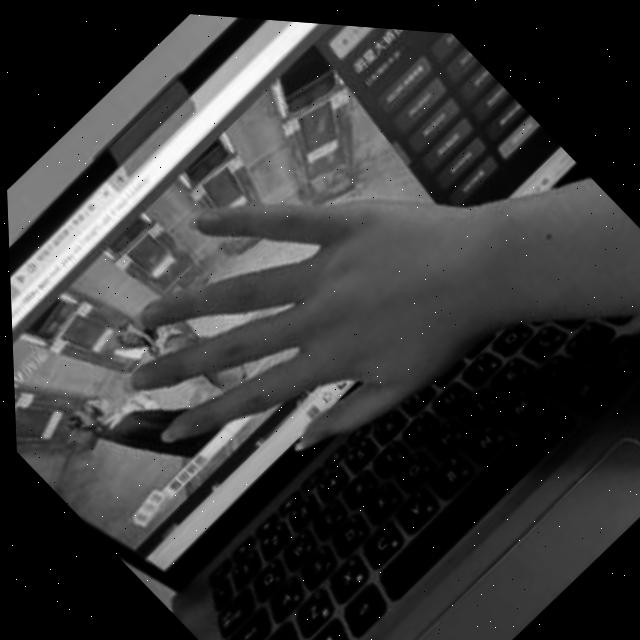hand: (54, 69, 529, 557)
